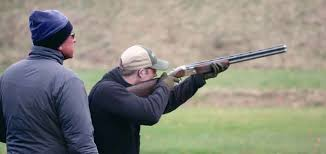Gun: (189, 45, 276, 80)
